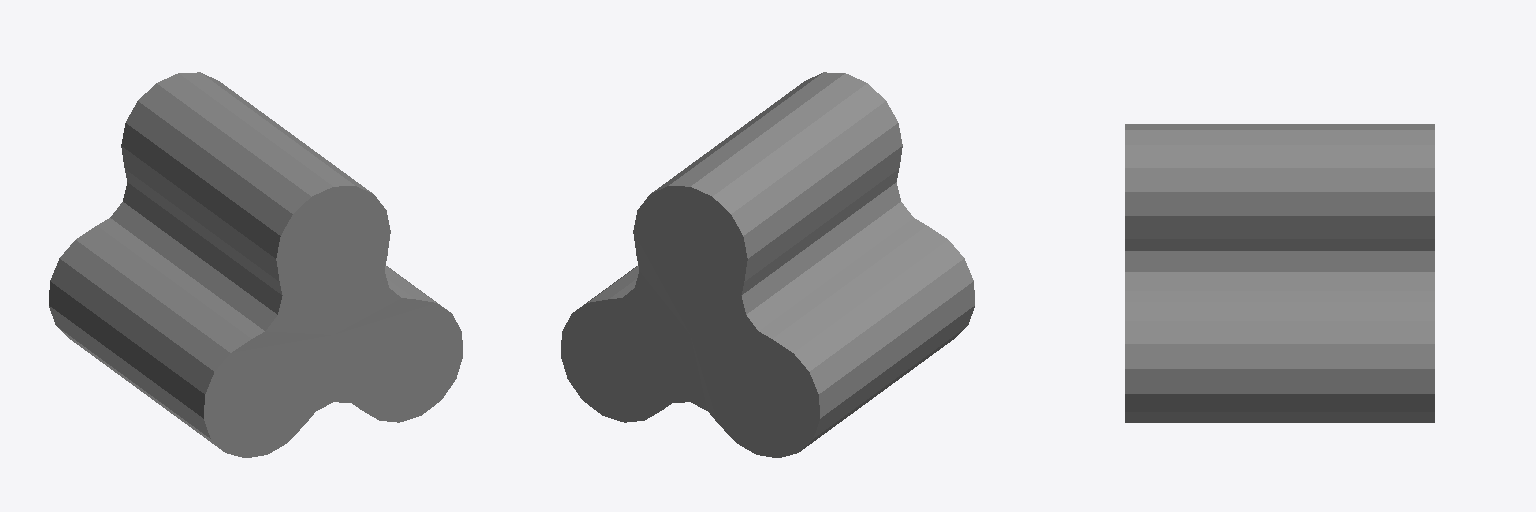
File: mag3.obj
The picture shows the model from 3 angles: view 1: azimuth 30°, elevation 25°; view 2: azimuth 150°, elevation 25°; view 3: azimuth 270°, elevation 25°; orthographic projection.
Visible parts, largest first — view 1: mag3; view 2: mag3; view 3: mag3.
Part boxes in pixels (left/top/right/bottom): mag3: left=49, top=72, right=462, bottom=457; mag3: left=561, top=72, right=974, bottom=457; mag3: left=1125, top=124, right=1434, bottom=422.
Bounding box in the file's own units: 6.56 × 6.08 × 6.78.